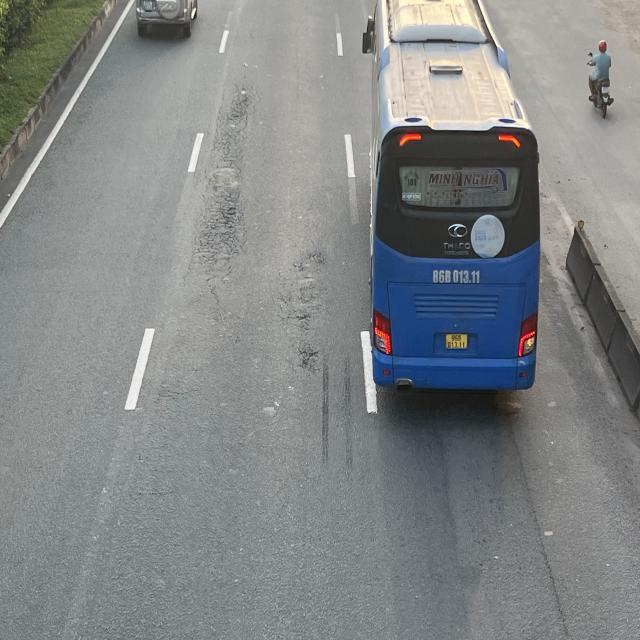coach: (364, 0, 539, 398)
